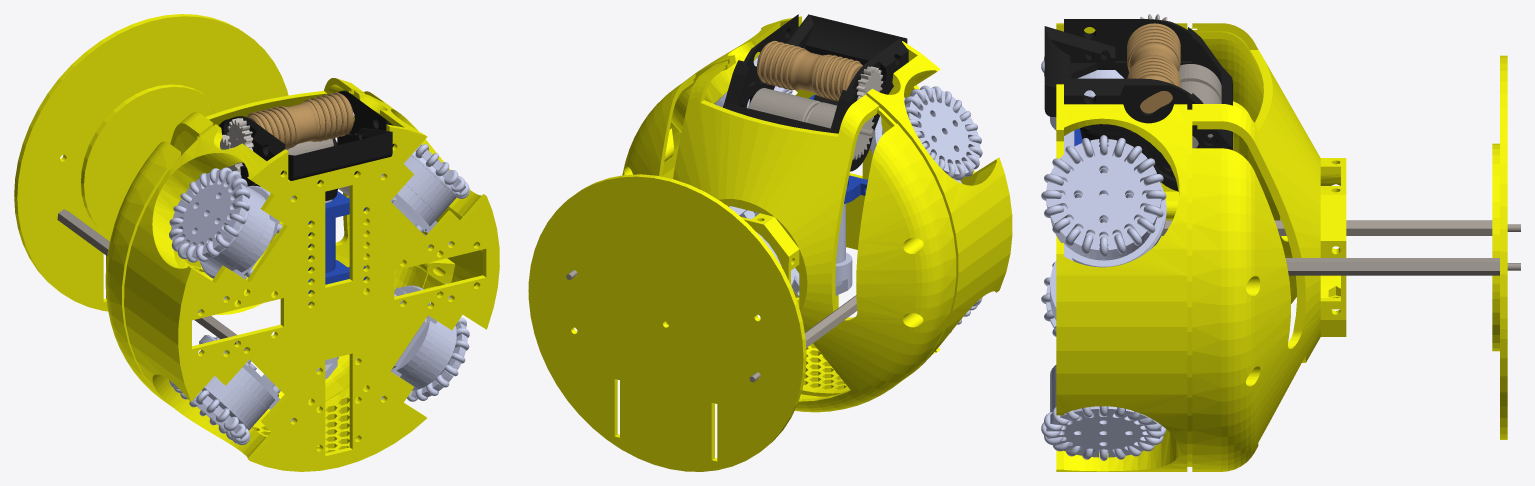
File: yellow.dae
The picture shows the model from 3 angles, left to right: view 1: azimuth 30°, elevation 25°; view 2: azimuth 150°, elevation 25°; view 3: azimuth 270°, elevation 25°; orthographic projection. The views are drawn at different scales.
Parts seen in each view (by area): view 1: node_b3b0dbc8_2d59_4cc3_89ce_44f236942171_mesh0, node_f98051a3_35b5_49bd_8b8b_33f0b1128e3c_mesh0, node_fbc45eb5_85bc_4047_822a_2059ac098a13_mesh0, node_f1908a61_9310_4317_b0cb_39ef958d7fa3_mesh0, node_e05ba624_7ee9_4788_a644_ce1629927685_mesh0, node_d4445b72_d286_4ad6_aeb7_492aa6578062_mesh0, node_8b456610_f4e4_4513_8f9c_7f6be4850f2e_mesh0, node_20c87ee5_fe00_4df8_9a96_359ce2759078_mesh0, node_05fdbad9_d1e2_4066_96ee_1bd0c797b600_mesh0, node_0f128692_5b19_4470_b232_c44f3fd49d5a_mesh0, node_24dd8d2c_ac93_4298_9006_35bf9712e454_mesh0, node_52ffc273_022d_4be2_90e0_043929b07eba_mesh0 (+5 smaller); view 2: node_f98051a3_35b5_49bd_8b8b_33f0b1128e3c_mesh0, node_fbc45eb5_85bc_4047_822a_2059ac098a13_mesh0, node_b3b0dbc8_2d59_4cc3_89ce_44f236942171_mesh0, node_24dd8d2c_ac93_4298_9006_35bf9712e454_mesh0, node_f1908a61_9310_4317_b0cb_39ef958d7fa3_mesh0, node_e05ba624_7ee9_4788_a644_ce1629927685_mesh0, node_05fdbad9_d1e2_4066_96ee_1bd0c797b600_mesh0, node_3c1fa045_40e7_4acc_9670_f3e8fad76496_mesh0, node_445fa688_4e01_4675_864c_a769822d910d_mesh0, node_087ae32c_27aa_4fde_99dc_c6ac822ed859_mesh0, node_383951ed_770c_4e7d_bc23_cad0c75e8fbd_mesh0, node_d4445b72_d286_4ad6_aeb7_492aa6578062_mesh0; view 3: node_fbc45eb5_85bc_4047_822a_2059ac098a13_mesh0, node_b3b0dbc8_2d59_4cc3_89ce_44f236942171_mesh0, node_8a745eb0_b783_4d76_9ff5_1430210260e4_mesh0, node_24dd8d2c_ac93_4298_9006_35bf9712e454_mesh0, node_5bf522b5_7dd2_4c20_9db4_0dd2dd7896b3_mesh0, node_f98051a3_35b5_49bd_8b8b_33f0b1128e3c_mesh0, node_9d0f6a49_7307_400d_96a7_231fe3225276_mesh0, node_e05ba624_7ee9_4788_a644_ce1629927685_mesh0, node_05fdbad9_d1e2_4066_96ee_1bd0c797b600_mesh0, node_0f128692_5b19_4470_b232_c44f3fd49d5a_mesh0, node_445fa688_4e01_4675_864c_a769822d910d_mesh0, node_3c1fa045_40e7_4acc_9670_f3e8fad76496_mesh0.
Boxes of the visible parts, <box> form: node_b3b0dbc8_2d59_4cc3_89ce_44f236942171_mesh0: <box>124,90,499,471</box>; node_f98051a3_35b5_49bd_8b8b_33f0b1128e3c_mesh0: <box>14,14,288,311</box>; node_fbc45eb5_85bc_4047_822a_2059ac098a13_mesh0: <box>105,78,427,422</box>; node_f1908a61_9310_4317_b0cb_39ef958d7fa3_mesh0: <box>169,167,250,262</box>; node_e05ba624_7ee9_4788_a644_ce1629927685_mesh0: <box>247,92,353,149</box>; node_d4445b72_d286_4ad6_aeb7_492aa6578062_mesh0: <box>357,283,456,399</box>; node_8b456610_f4e4_4513_8f9c_7f6be4850f2e_mesh0: <box>198,185,293,300</box>; node_20c87ee5_fe00_4df8_9a96_359ce2759078_mesh0: <box>198,335,293,430</box>; node_05fdbad9_d1e2_4066_96ee_1bd0c797b600_mesh0: <box>288,127,392,180</box>; node_0f128692_5b19_4470_b232_c44f3fd49d5a_mesh0: <box>381,151,456,245</box>; node_24dd8d2c_ac93_4298_9006_35bf9712e454_mesh0: <box>219,90,394,186</box>; node_52ffc273_022d_4be2_90e0_043929b07eba_mesh0: <box>308,191,366,293</box>; node_f98051a3_35b5_49bd_8b8b_33f0b1128e3c_mesh0: <box>528,174,806,471</box>; node_fbc45eb5_85bc_4047_822a_2059ac098a13_mesh0: <box>622,60,956,412</box>; node_b3b0dbc8_2d59_4cc3_89ce_44f236942171_mesh0: <box>662,16,1012,396</box>; node_24dd8d2c_ac93_4298_9006_35bf9712e454_mesh0: <box>723,14,908,171</box>; node_f1908a61_9310_4317_b0cb_39ef958d7fa3_mesh0: <box>904,85,982,180</box>; node_e05ba624_7ee9_4788_a644_ce1629927685_mesh0: <box>757,41,862,101</box>; node_05fdbad9_d1e2_4066_96ee_1bd0c797b600_mesh0: <box>786,14,907,64</box>; node_3c1fa045_40e7_4acc_9670_f3e8fad76496_mesh0: <box>748,88,874,136</box>; node_445fa688_4e01_4675_864c_a769822d910d_mesh0: <box>749,295,856,382</box>; node_087ae32c_27aa_4fde_99dc_c6ac822ed859_mesh0: <box>835,252,852,295</box>; node_383951ed_770c_4e7d_bc23_cad0c75e8fbd_mesh0: <box>856,66,883,100</box>; node_d4445b72_d286_4ad6_aeb7_492aa6578062_mesh0: <box>729,206,799,297</box>; node_fbc45eb5_85bc_4047_822a_2059ac098a13_mesh0: <box>1192,23,1346,471</box>; node_b3b0dbc8_2d59_4cc3_89ce_44f236942171_mesh0: <box>1056,23,1192,471</box>; node_8a745eb0_b783_4d76_9ff5_1430210260e4_mesh0: <box>1041,135,1166,256</box>; node_24dd8d2c_ac93_4298_9006_35bf9712e454_mesh0: <box>1064,19,1232,191</box>; node_5bf522b5_7dd2_4c20_9db4_0dd2dd7896b3_mesh0: <box>1041,406,1166,460</box>; node_f98051a3_35b5_49bd_8b8b_33f0b1128e3c_mesh0: <box>1492,55,1507,439</box>; node_9d0f6a49_7307_400d_96a7_231fe3225276_mesh0: <box>1285,258,1520,275</box>; node_e05ba624_7ee9_4788_a644_ce1629927685_mesh0: <box>1127,23,1180,113</box>; node_05fdbad9_d1e2_4066_96ee_1bd0c797b600_mesh0: <box>1044,26,1115,116</box>; node_0f128692_5b19_4470_b232_c44f3fd49d5a_mesh0: <box>1050,131,1166,267</box>; node_445fa688_4e01_4675_864c_a769822d910d_mesh0: <box>1161,220,1520,235</box>; node_3c1fa045_40e7_4acc_9670_f3e8fad76496_mesh0: <box>1178,64,1221,148</box>.
Bounding box in the file's own units: 0.175 × 0.1735 × 0.187.
